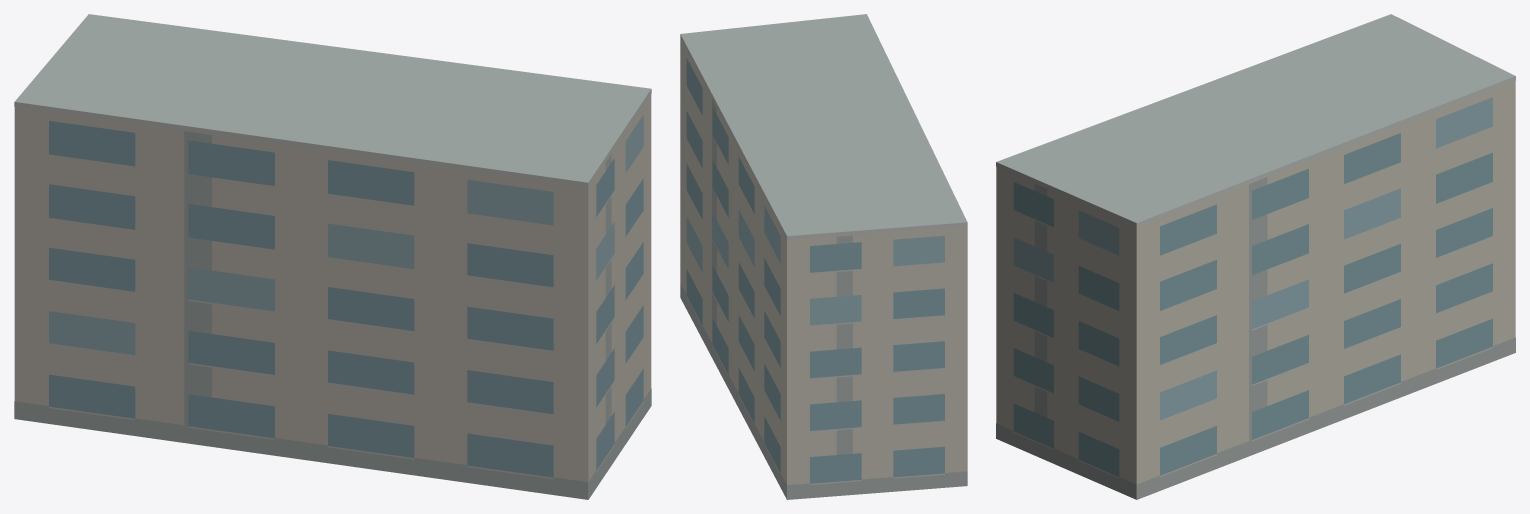
File: survey-upis-32997574.glb
3 views of the same model, side by side, from view 1: azimuth 30°, elevation 25°; view 2: azimuth 150°, elevation 25°; view 3: azimuth 270°, elevation 25° (orthographic). The views are drawn at different scales.
Parts seen in each view (by area): view 1: survey-upis-32997574.tmp; view 2: survey-upis-32997574.tmp; view 3: survey-upis-32997574.tmp.
Boxes of the visible parts, x1,y1,x2,y2 form: survey-upis-32997574.tmp: (14,14,651,499); survey-upis-32997574.tmp: (680,14,967,499); survey-upis-32997574.tmp: (996,14,1515,499).
Size of the model in its own units: 23.51 by 14.5 by 24.68.
